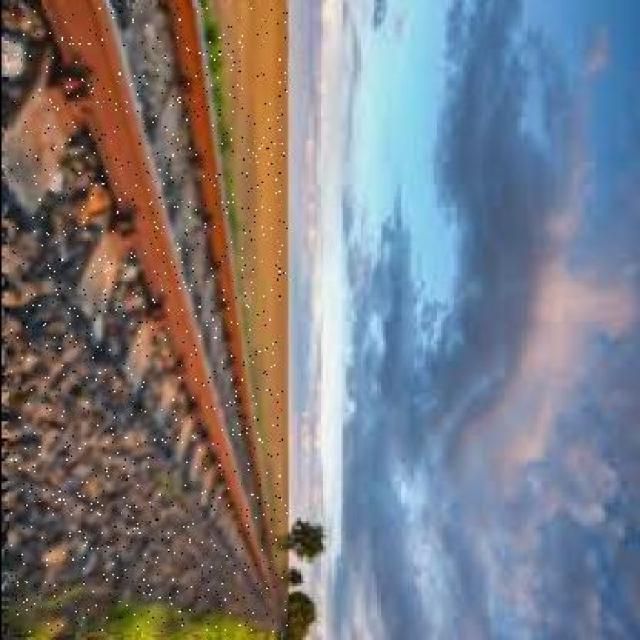rail: (10, 9, 287, 633)
